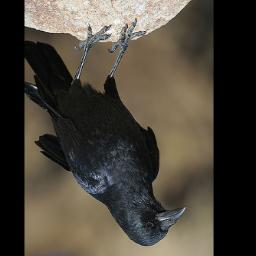Crow: (25, 17, 189, 248)
